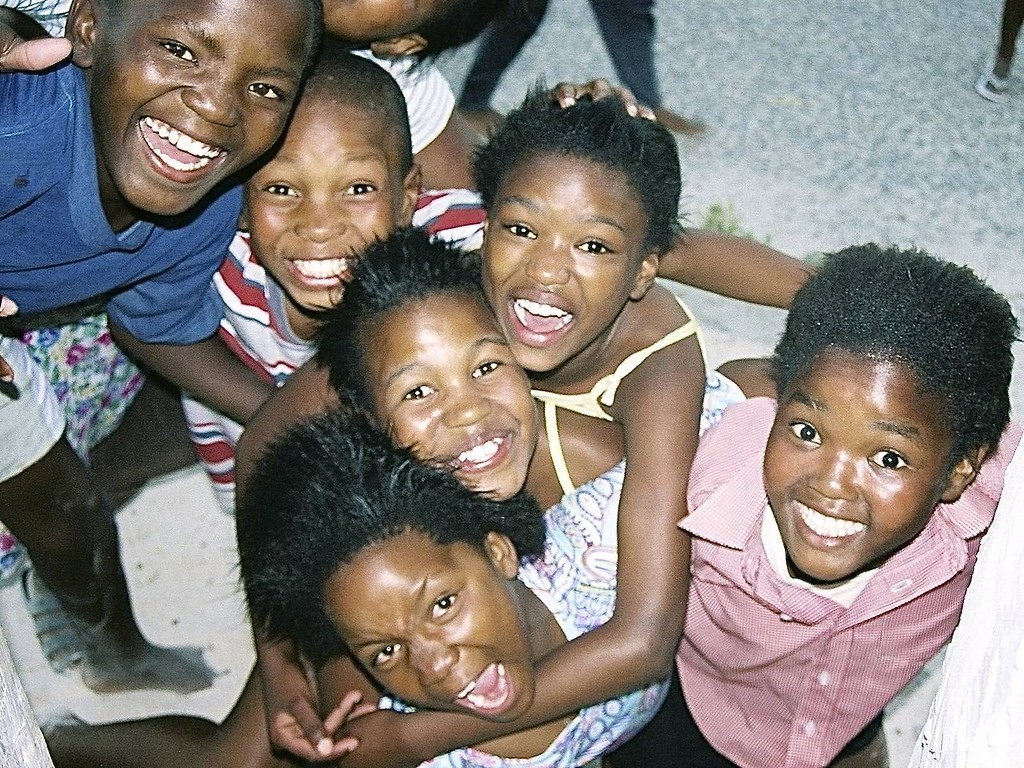face_no_mask: (765, 248, 1009, 582), (298, 473, 536, 723), (328, 240, 540, 497), (481, 99, 678, 369), (74, 2, 306, 218), (248, 55, 419, 311)
